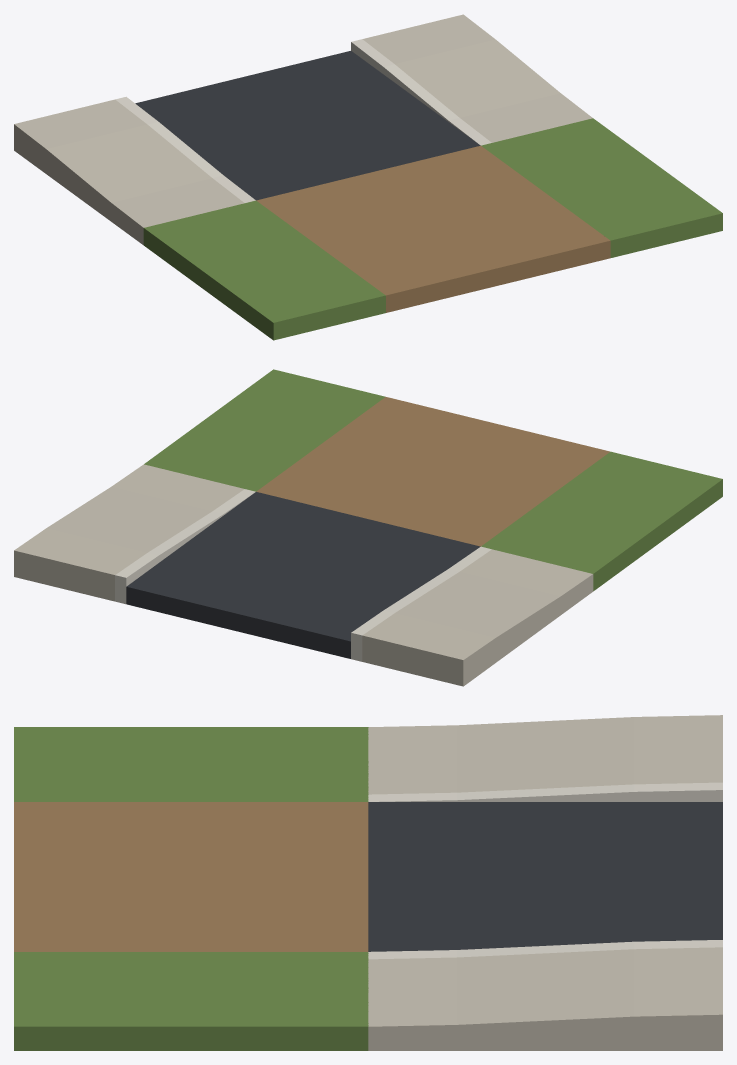
File: Transition_Sidewalk_To_NoSidewalk_1Lane_8m.glb
3 views of the same model, one above another, from view 1: azimuth 30°, elevation 25°; view 2: azimuth 150°, elevation 25°; view 3: azimuth 270°, elevation 25° (orthographic). The views are drawn at different scales.
Visible parts, largest first — view 1: Transition_Sidewalk_To_NoSidewalk_1Lane_8m_Grass-edge, Transition_Sidewalk_To_NoSidewalk_1Lane_8m_Dirt, Transition_Sidewalk_To_NoSidewalk_1Lane_8m_Sidewalk, Transition_Sidewalk_To_NoSidewalk_1Lane_8m_Asphalt, Transition_Sidewalk_To_NoSidewalk_1Lane_8m_Curb; view 2: Transition_Sidewalk_To_NoSidewalk_1Lane_8m_Sidewalk, Transition_Sidewalk_To_NoSidewalk_1Lane_8m_Asphalt, Transition_Sidewalk_To_NoSidewalk_1Lane_8m_Grass-edge, Transition_Sidewalk_To_NoSidewalk_1Lane_8m_Dirt, Transition_Sidewalk_To_NoSidewalk_1Lane_8m_Curb; view 3: Transition_Sidewalk_To_NoSidewalk_1Lane_8m_Grass-edge, Transition_Sidewalk_To_NoSidewalk_1Lane_8m_Sidewalk, Transition_Sidewalk_To_NoSidewalk_1Lane_8m_Dirt, Transition_Sidewalk_To_NoSidewalk_1Lane_8m_Asphalt, Transition_Sidewalk_To_NoSidewalk_1Lane_8m_Curb.
Boxes of the visible parts, left/top/right/bottom form: Transition_Sidewalk_To_NoSidewalk_1Lane_8m_Grass-edge: left=143, top=118, right=722, bottom=340; Transition_Sidewalk_To_NoSidewalk_1Lane_8m_Dirt: left=256, top=145, right=610, bottom=312; Transition_Sidewalk_To_NoSidewalk_1Lane_8m_Sidewalk: left=14, top=14, right=592, bottom=244; Transition_Sidewalk_To_NoSidewalk_1Lane_8m_Asphalt: left=135, top=51, right=480, bottom=200; Transition_Sidewalk_To_NoSidewalk_1Lane_8m_Curb: left=115, top=39, right=491, bottom=202; Transition_Sidewalk_To_NoSidewalk_1Lane_8m_Sidewalk: left=14, top=464, right=593, bottom=686; Transition_Sidewalk_To_NoSidewalk_1Lane_8m_Asphalt: left=126, top=492, right=480, bottom=658; Transition_Sidewalk_To_NoSidewalk_1Lane_8m_Grass-edge: left=144, top=369, right=722, bottom=591; Transition_Sidewalk_To_NoSidewalk_1Lane_8m_Dirt: left=256, top=397, right=609, bottom=546; Transition_Sidewalk_To_NoSidewalk_1Lane_8m_Curb: left=115, top=489, right=491, bottom=661; Transition_Sidewalk_To_NoSidewalk_1Lane_8m_Grass-edge: left=14, top=727, right=368, bottom=1050; Transition_Sidewalk_To_NoSidewalk_1Lane_8m_Sidewalk: left=368, top=715, right=722, bottom=1050; Transition_Sidewalk_To_NoSidewalk_1Lane_8m_Dirt: left=14, top=802, right=368, bottom=951; Transition_Sidewalk_To_NoSidewalk_1Lane_8m_Asphalt: left=368, top=802, right=722, bottom=951; Transition_Sidewalk_To_NoSidewalk_1Lane_8m_Curb: left=368, top=782, right=722, bottom=959.
Bounding box in the file's own units: 8 × 0.45 × 8.
